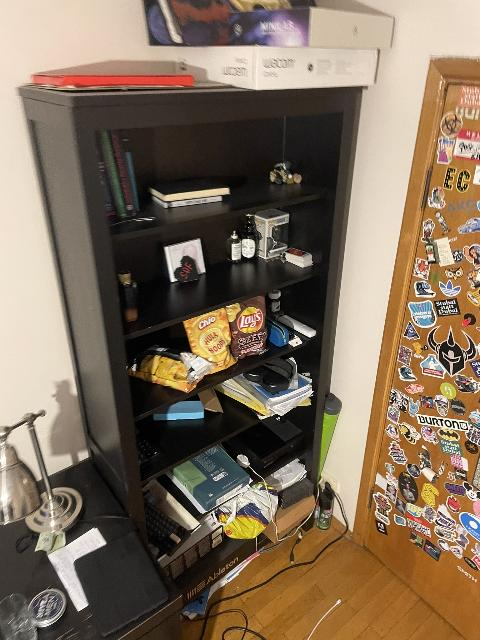Chio Cascaval 125g: (129, 346, 209, 393)
Chio Hula Hoops Cheese 70g: (182, 307, 238, 369)
Lays Beef Grilled Ribs 125g: (227, 297, 269, 357)
